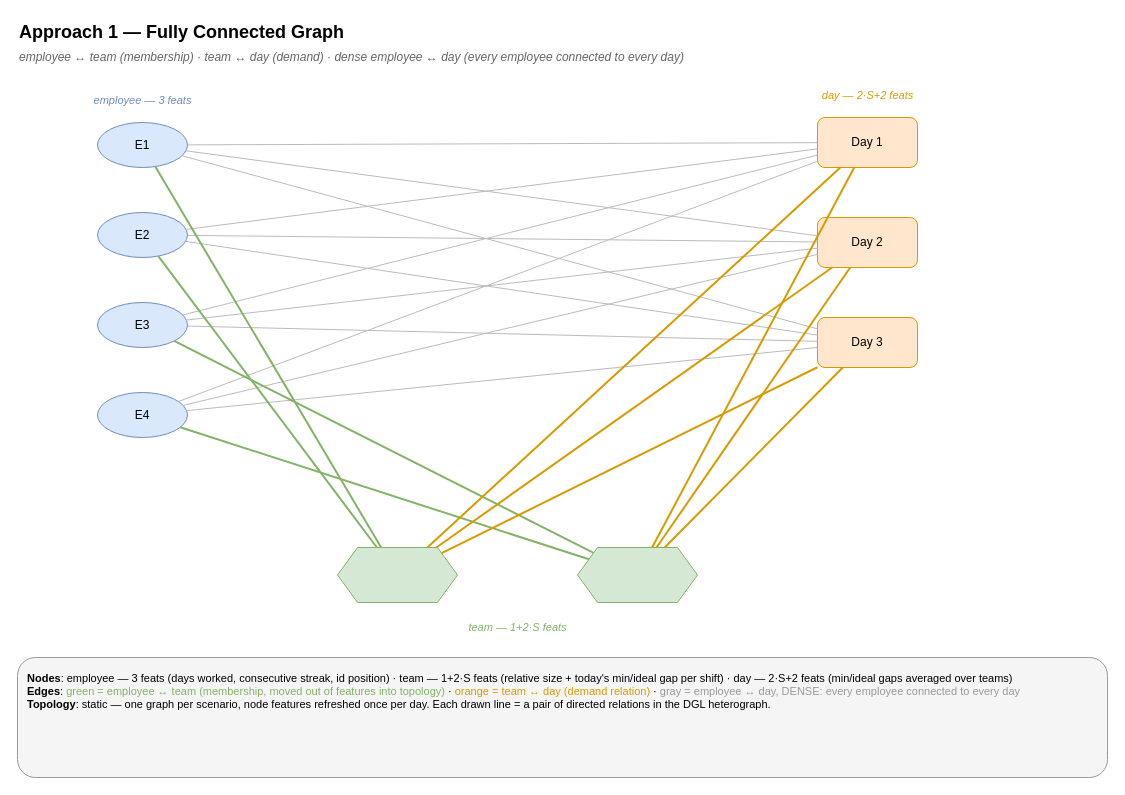
This 1125x795 diagram has some shape labels left out. Each missing label, with the box of its shape:
Team A: (336, 546, 458, 602)
Team B: (576, 546, 698, 602)
